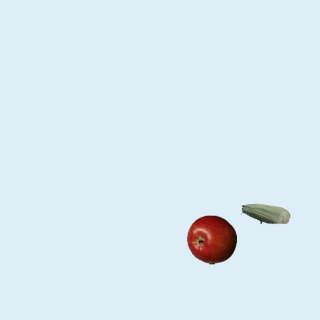Apple Braeburn: (186, 214, 236, 264)
Corn Husk: (240, 188, 290, 238)
